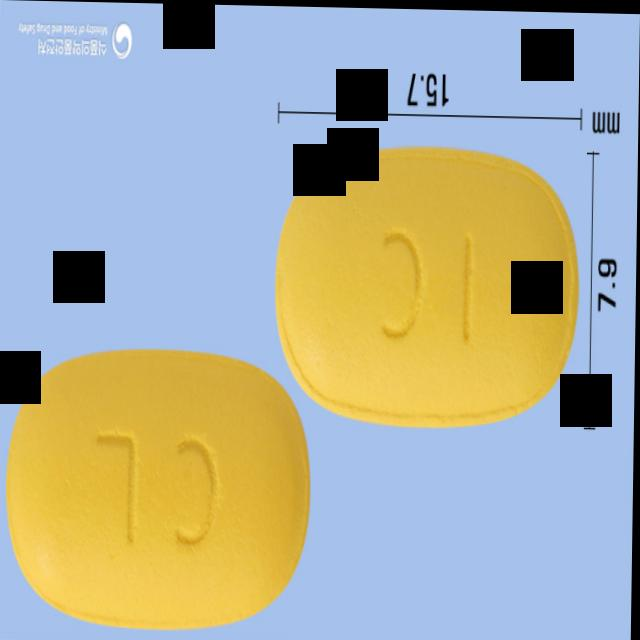Clocin: (274, 142, 584, 430), (5, 346, 313, 632)
